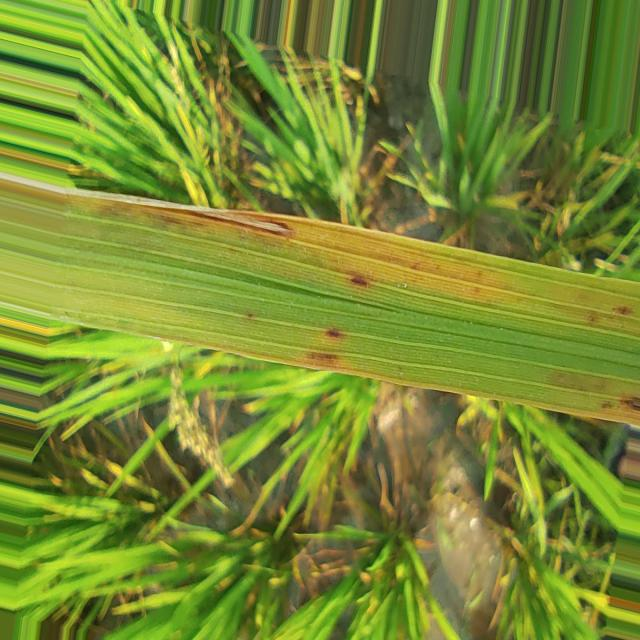Brown_Spot: (225, 212, 291, 237), (305, 352, 340, 368), (621, 395, 640, 411), (350, 273, 370, 288), (612, 305, 634, 315), (325, 327, 342, 339), (245, 310, 255, 322)
